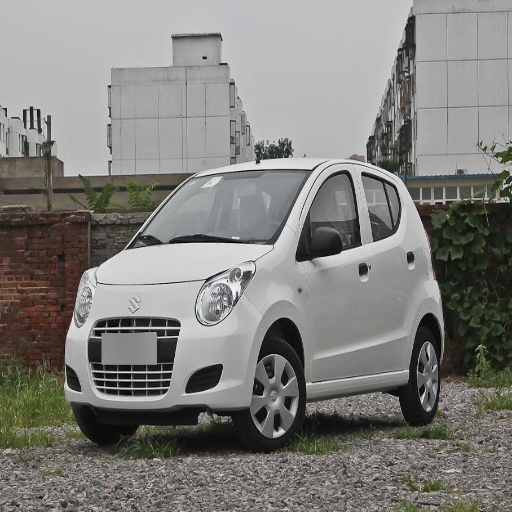front_bumper: (67, 280, 264, 413)
front_glass: (130, 174, 310, 247)
front_left_door: (297, 166, 375, 383)
